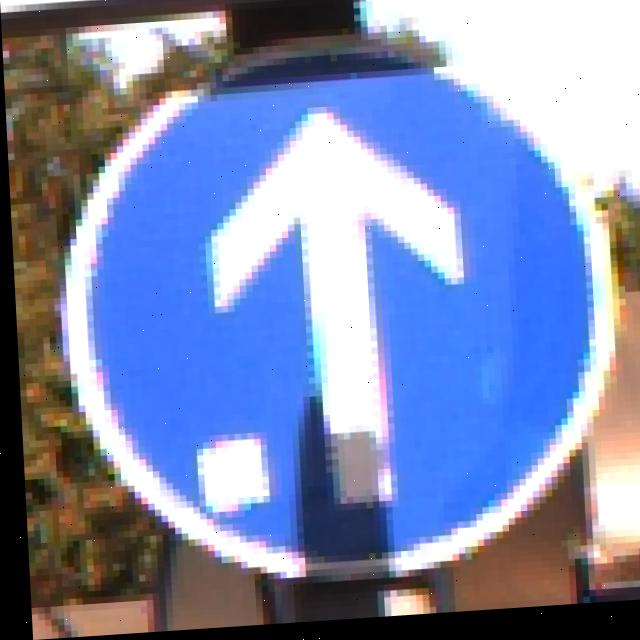compulsory_ahead: (84, 24, 628, 550)
